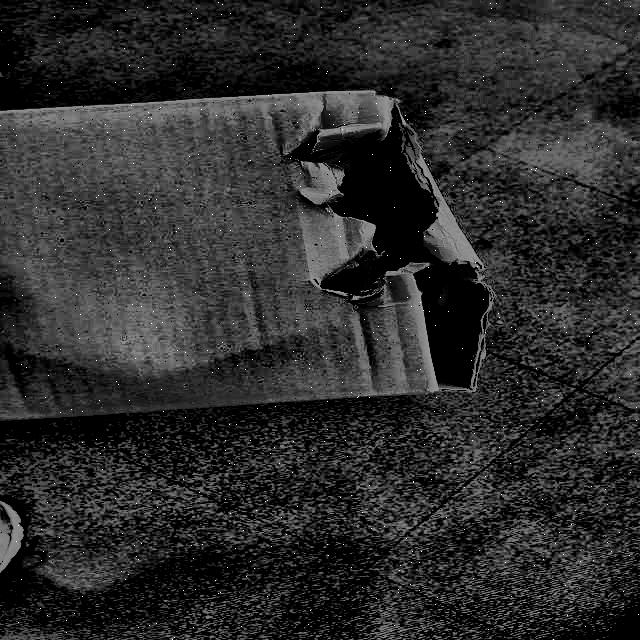box: (0, 76, 499, 433)
hole: (296, 92, 501, 393)
